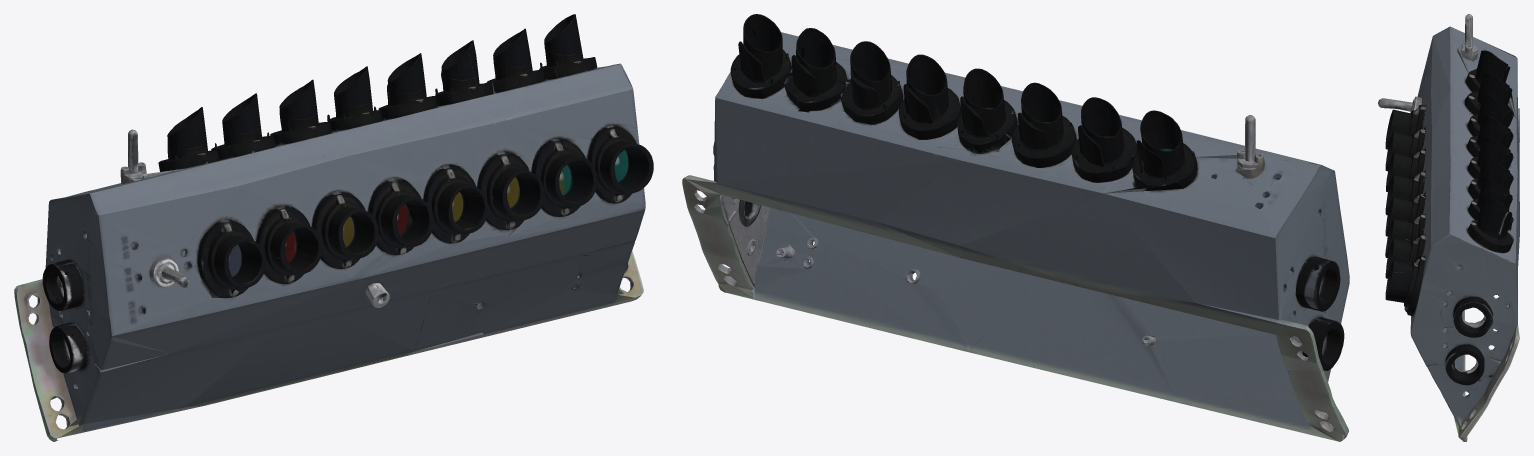
The model's file is cab_signal_jxs8_real.glb.
The picture shows the model from 3 angles, left to right: view 1: azimuth 30°, elevation 25°; view 2: azimuth 150°, elevation 25°; view 3: azimuth 270°, elevation 25°; orthographic projection. The views are drawn at different scales.
Parts seen in each view (by area): view 1: Mesh_0; view 2: Mesh_0; view 3: Mesh_0.
Part boxes in pixels (x1,y1,x2,y2): Mesh_0: [14, 14, 653, 441]; Mesh_0: [682, 14, 1349, 441]; Mesh_0: [1378, 14, 1519, 441].
Bounding box in the file's own units: 1.9 × 0.8885 × 0.4905.
Materials: 1 (1 with a texture image).
